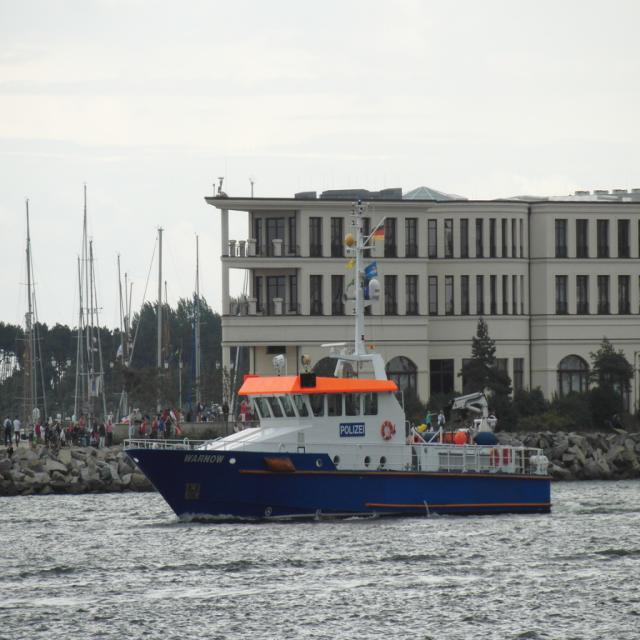Boat: (130, 324, 550, 524), (0, 195, 58, 442), (59, 180, 113, 443)
